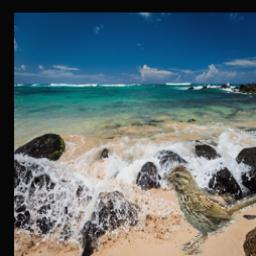Sparrow: (159, 163, 256, 256)
